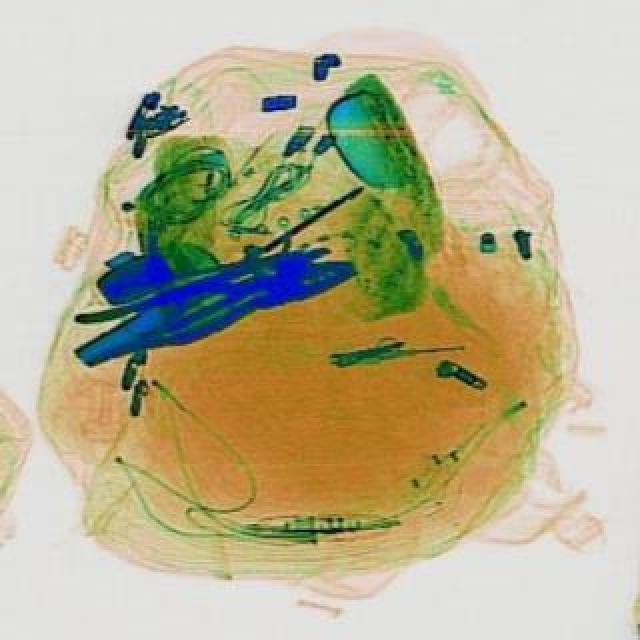wrench: (72, 236, 368, 372)
